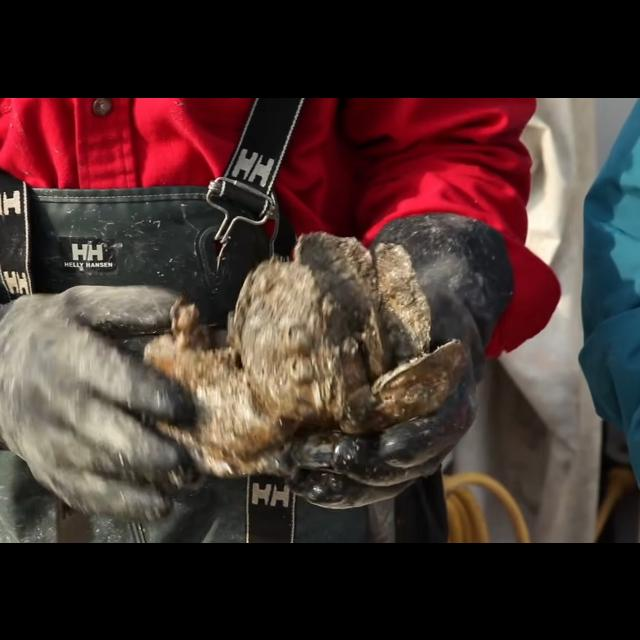Oyster-Closed: (142, 334, 278, 474), (234, 258, 336, 414), (295, 232, 377, 344), (368, 337, 468, 418), (374, 240, 432, 352), (362, 304, 384, 374)
